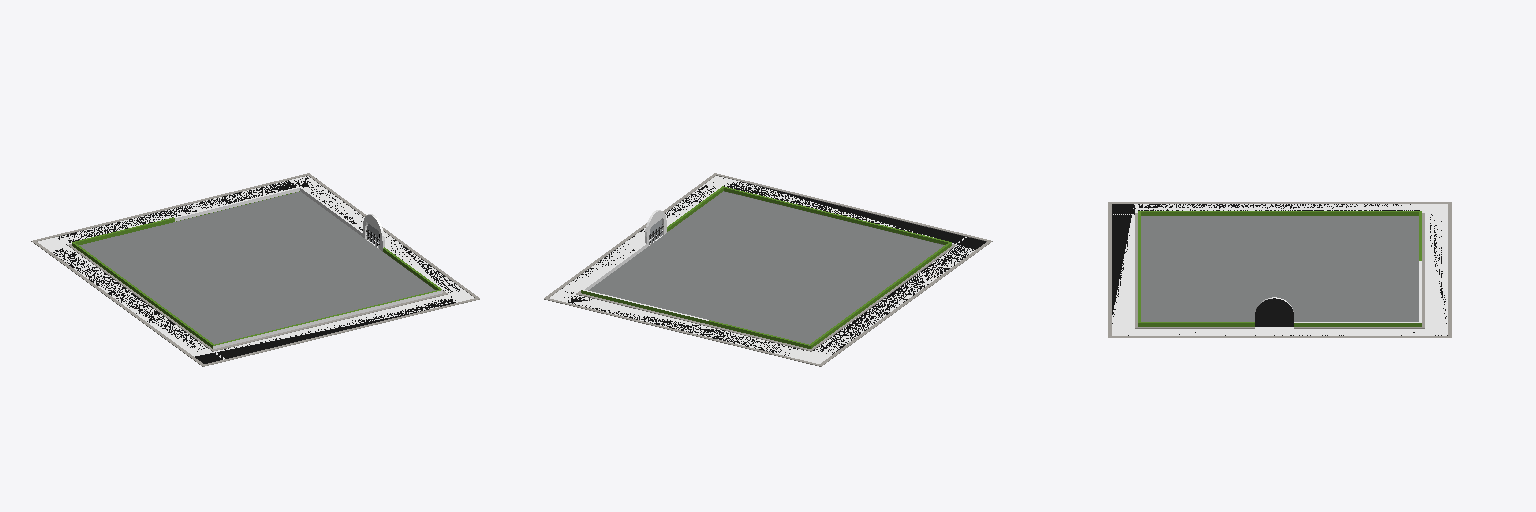
The model's file is plano.obj.
3 renders of one model, left to right at view 1: azimuth 30°, elevation 25°; view 2: azimuth 150°, elevation 25°; view 3: azimuth 270°, elevation 25°, orthographic.
Visible parts, largest first — view 1: Mesh1 Model; view 2: Mesh1 Model; view 3: Mesh1 Model.
Boxes of the visible parts, <box> form: Mesh1 Model: <box>31,173,479,366</box>; Mesh1 Model: <box>544,173,992,366</box>; Mesh1 Model: <box>1108,202,1451,337</box>.
Size of the model in its own units: 327 by 32.26 by 350.